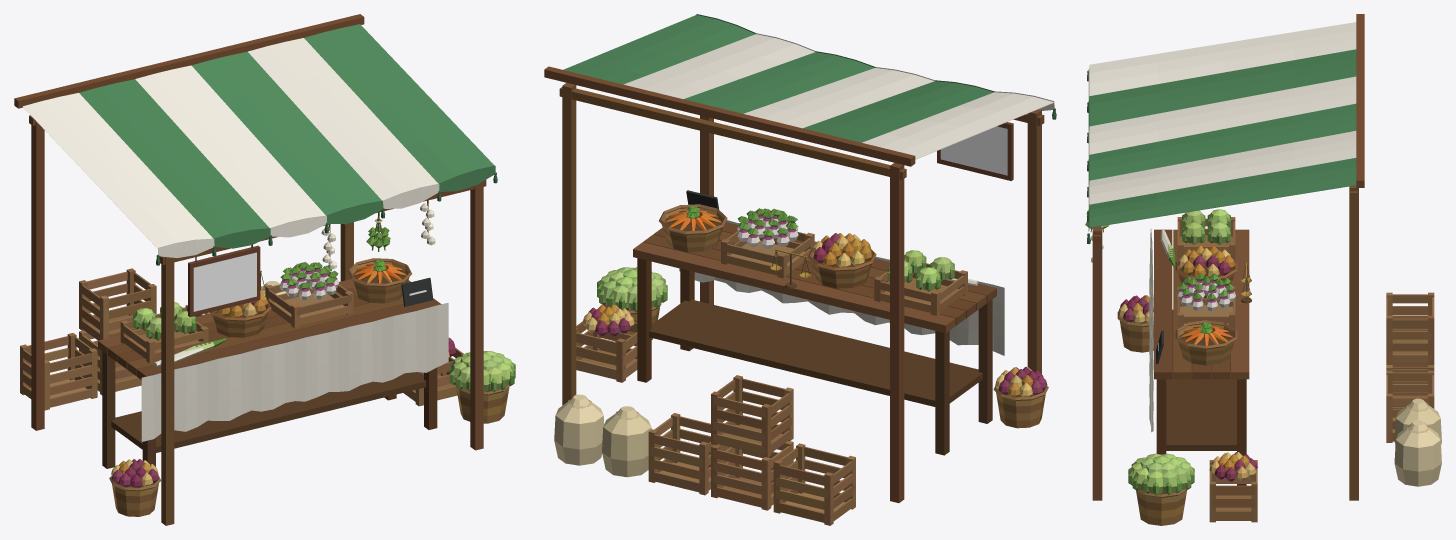
The model's file is stall_veg.glb.
3 views of the same model, side by side, from view 1: azimuth 30°, elevation 25°; view 2: azimuth 150°, elevation 25°; view 3: azimuth 270°, elevation 25° (orthographic). The views are drawn at different scales.
Visible parts, largest first — view 1: House; view 2: House; view 3: House.
Part boxes in pixels (bbox=[...]): House: bbox=[14, 14, 515, 525]; House: bbox=[544, 14, 1056, 525]; House: bbox=[1085, 14, 1441, 525].
Size of the model in its own units: 2.92 by 2.25 by 2.22.
Materials: 4 (4 with a texture image).
